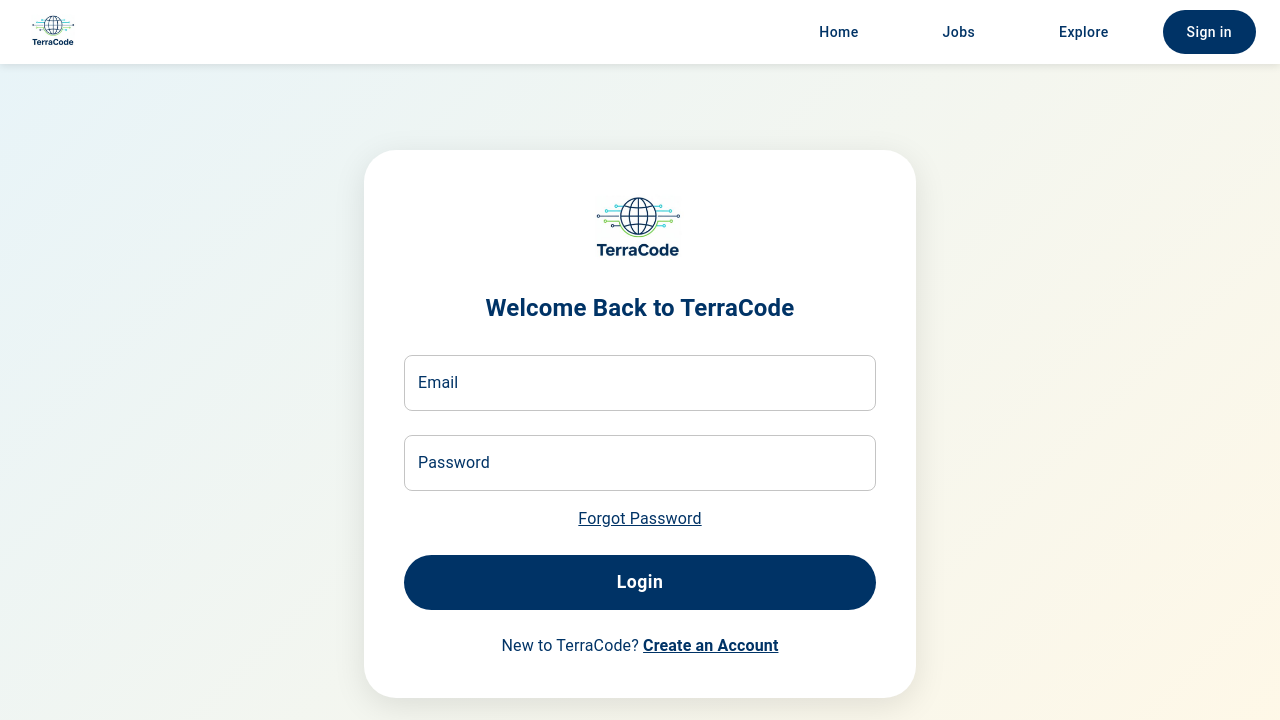
Job Portal - Authentication › should show validation error for empty login form
What coordinates should you click on to do the following:
click the button "Login"
I would click on:
 (640, 583)
Its box is [404,555,876,610].
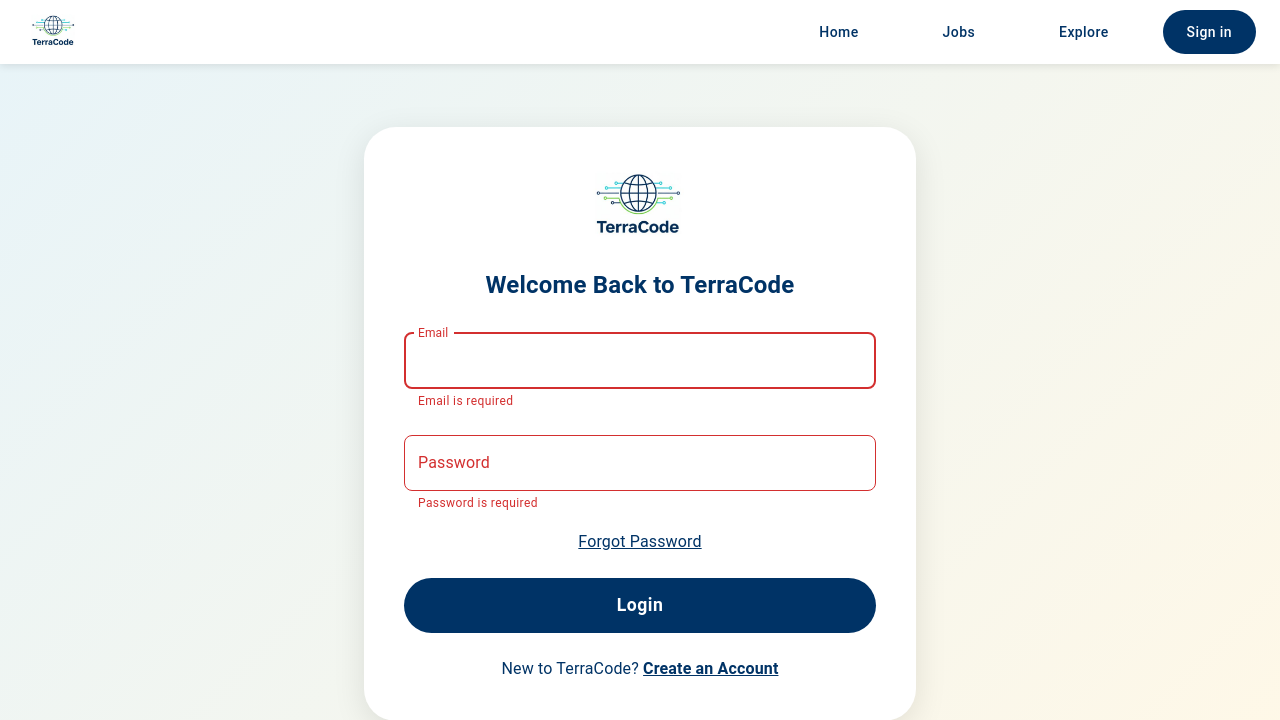
Check: the text "Email is required" is shown, box [418,394,513,408]
